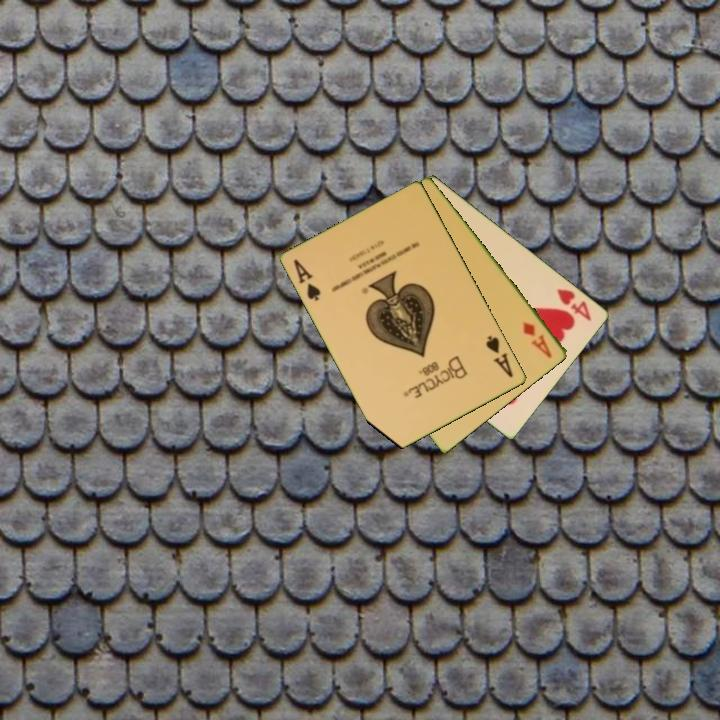4h: (554, 285, 595, 324)
Ad: (520, 318, 555, 361)
As: (482, 332, 516, 381), (290, 256, 324, 304)
